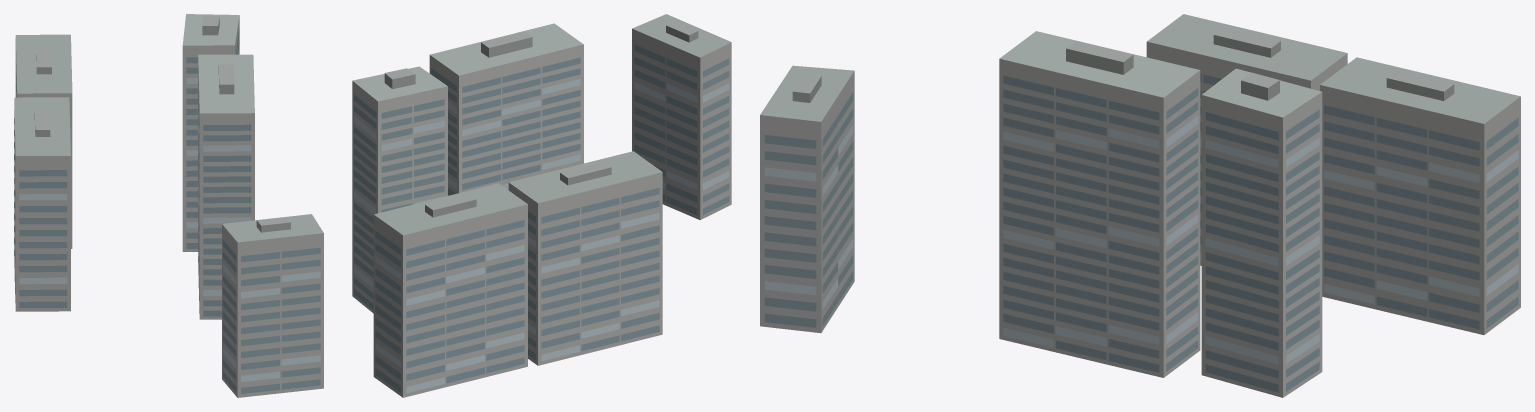
The model's file is apt-a15101901.glb.
3 renders of one model, left to right at view 1: azimuth 30°, elevation 25°; view 2: azimuth 150°, elevation 25°; view 3: azimuth 270°, elevation 25°, orthographic. The views are drawn at different scales.
Parts seen in each view (by area): view 1: apt-a15101901; view 2: apt-a15101901; view 3: apt-a15101901.
Boxes of the visible parts, left/top/right/bottom form: apt-a15101901: left=14, top=14, right=323, bottom=397; apt-a15101901: left=352, top=14, right=731, bottom=397; apt-a15101901: left=760, top=14, right=1520, bottom=397.
Size of the model in its own units: 69.48 by 55 by 129.
